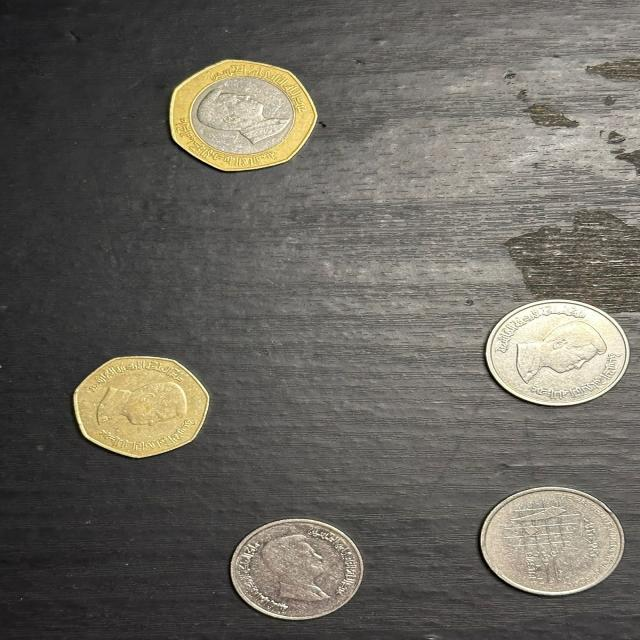10-coins: (477, 484, 628, 597), (484, 299, 634, 408)
25-coins: (70, 354, 210, 462)
5-coins: (232, 516, 366, 620)
50-coins: (168, 56, 320, 174)
